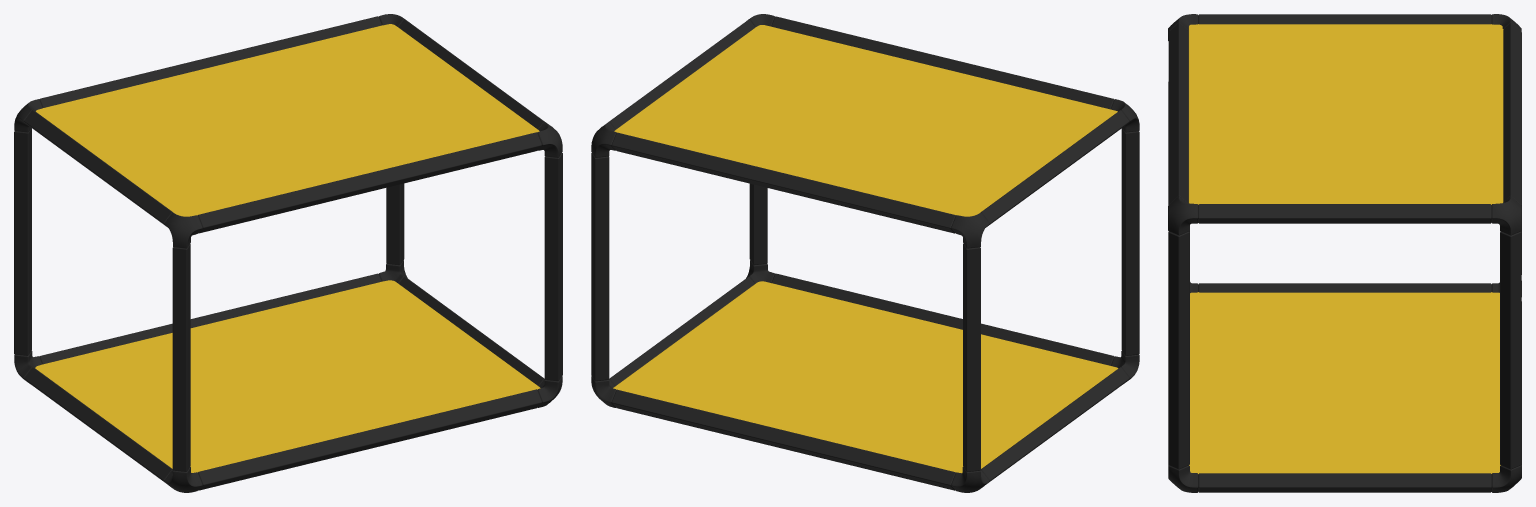
The picture shows the model from 3 angles, left to right: view 1: azimuth 30°, elevation 25°; view 2: azimuth 150°, elevation 25°; view 3: azimuth 270°, elevation 25°; orthographic projection. The views are drawn at different scales.
Visible parts, largest first — view 1: 523x374x329; view 2: 523x374x329; view 3: 523x374x329.
Boxes of the visible parts, x1,y1,x2,y2 form: 523x374x329: (14,14,562,492); 523x374x329: (591,14,1139,492); 523x374x329: (1168,14,1521,492).
Bounding box in the file's own units: 0.6007 × 0.4067 × 0.4514.
